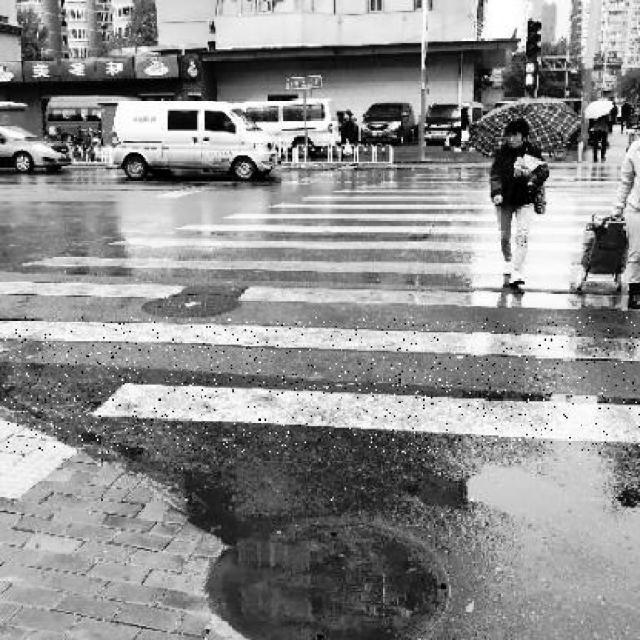crosswalk: (0, 166, 640, 455)
